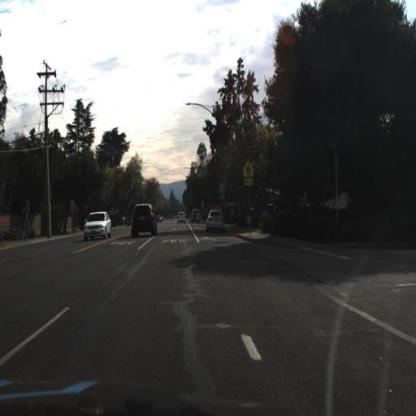car: (128, 201, 160, 241), (82, 209, 113, 244), (205, 206, 227, 234), (176, 209, 189, 228), (191, 209, 203, 225)
